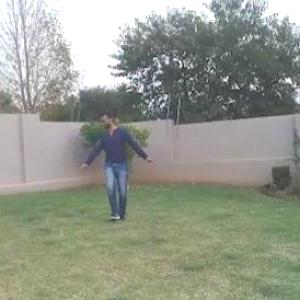land: (71, 97, 153, 229)
